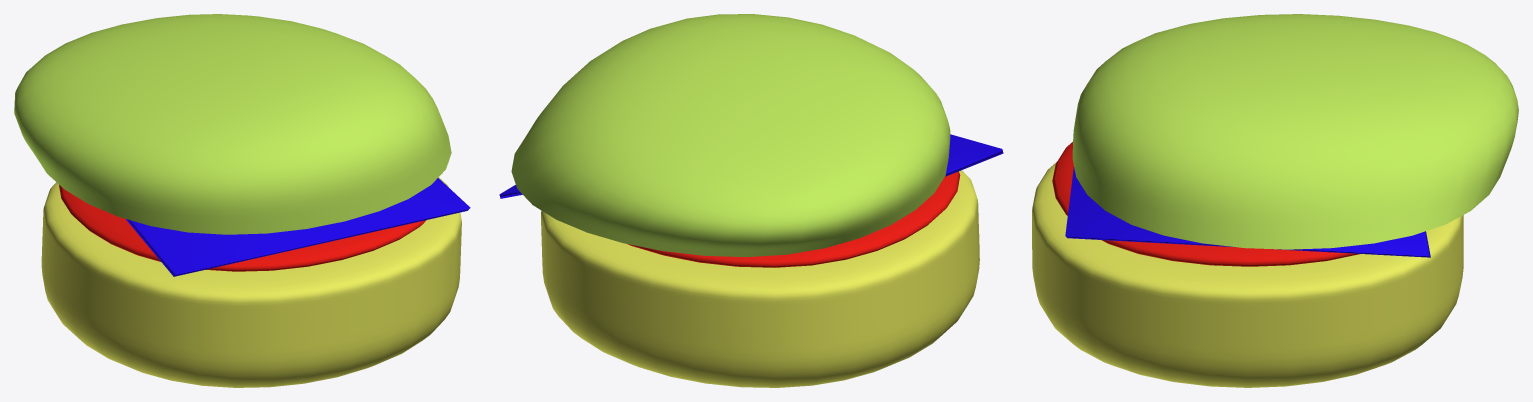
Rendered from hamburger.glb.
The picture shows the model from 3 angles, left to right: view 1: azimuth 30°, elevation 25°; view 2: azimuth 150°, elevation 25°; view 3: azimuth 270°, elevation 25°; orthographic projection. The views are drawn at different scales.
Visible parts, largest first — view 1: Cube.002, Cube, Plane, Cube.001; view 2: Cube.002, Cube, Cube.001, Plane; view 3: Cube.002, Cube, Cube.001, Plane.
Part boxes in pixels (left/top/right/bottom): Cube.002: left=14, top=14, right=451, bottom=234; Cube: left=41, top=177, right=461, bottom=387; Plane: left=126, top=178, right=470, bottom=276; Cube.001: left=59, top=185, right=426, bottom=271; Cube.002: left=511, top=14, right=950, bottom=257; Cube: left=541, top=170, right=979, bottom=387; Cube.001: left=627, top=171, right=960, bottom=267; Plane: left=499, top=134, right=1003, bottom=198; Cube.002: left=1072, top=14, right=1518, bottom=249; Cube: left=1032, top=162, right=1463, bottom=387; Cube.001: left=1052, top=142, right=1359, bottom=266; Plane: left=1065, top=167, right=1430, bottom=257.
Size of the model in its own units: 9.44 by 6.43 by 10.34.
